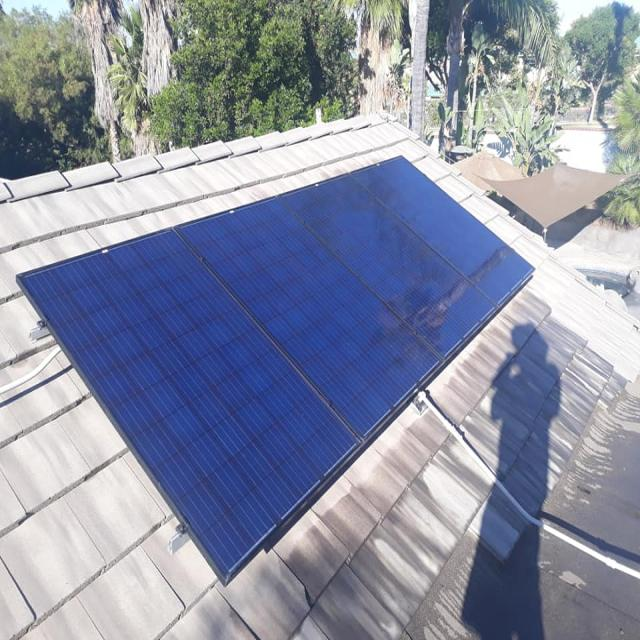clean-solar-panel: (18, 157, 534, 583)
